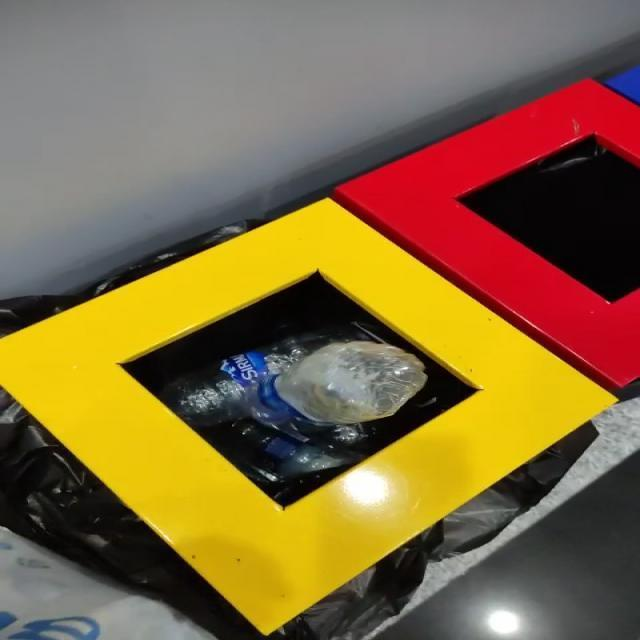Plastic: (161, 328, 428, 478)
